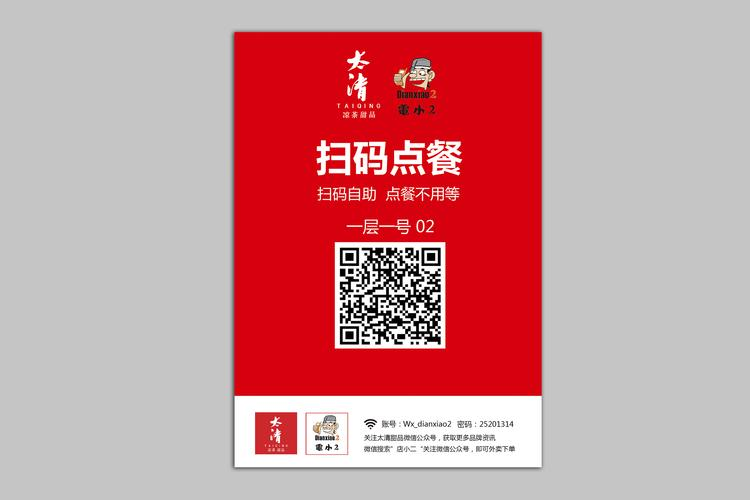QRCode: (335, 243, 444, 347)
